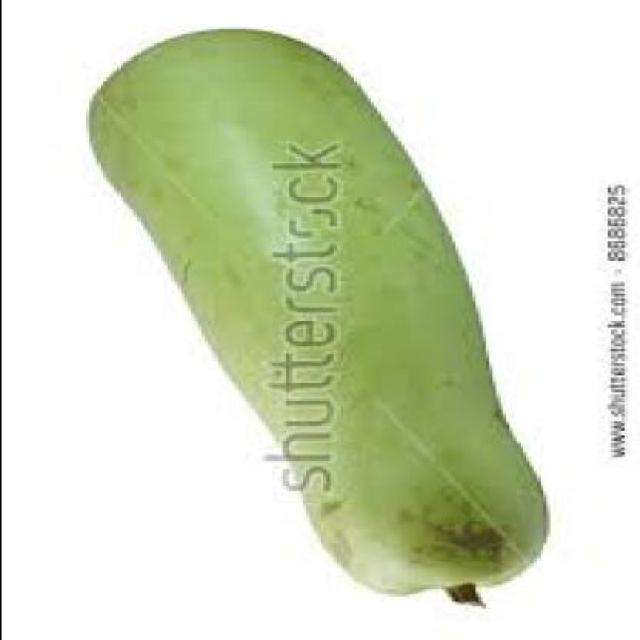BIODEGRADABLE: (81, 31, 542, 612)
